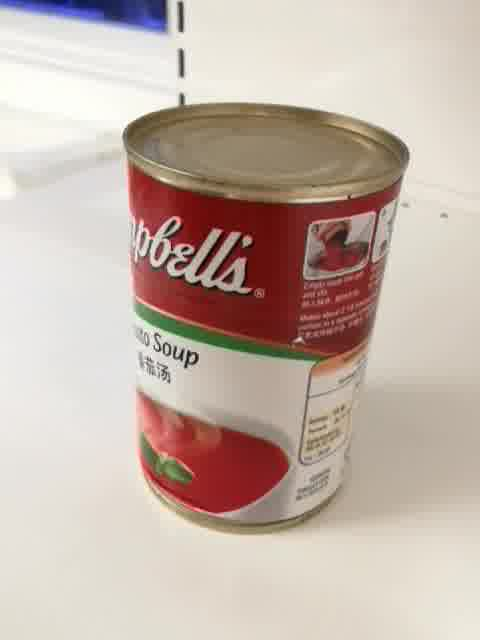tomatosoup: (119, 98, 412, 538)
